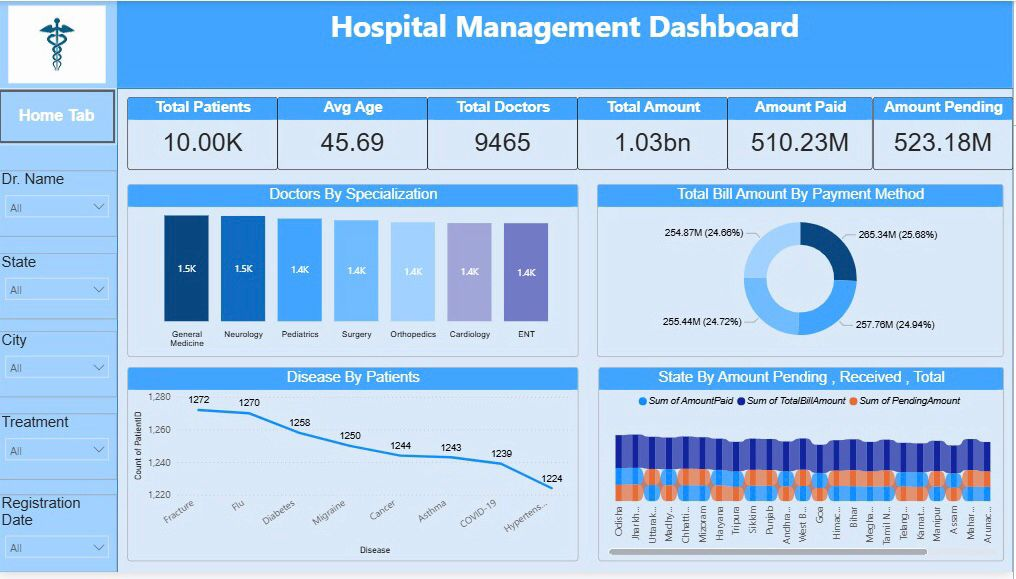

Layout of this report page (visuals, bound fields, positions):
{"tool":"powerbi","page":{"name":"Hospital Management Dashboard","canvas":[1280,720],"ordinal":1},"visuals":[{"type":"shape","box":[151.1,109.8,1129.3,610.8],"z":0},{"type":"card","title":"Total Patients","fields":{"Values":["Count(Hospital_Management_10k_Records.PatientID)"]},"box":[163.8,120.9,189.3,92.3],"z":1000},{"type":"card","title":"Avg Age","fields":{"Values":["Avg(Hospital_Management_10k_Records.Age)"]},"box":[353.1,120.9,189.3,92.3],"z":2000},{"type":"card","title":"Total Doctors","fields":{"Values":["Count(Hospital_Management_10k_Records.DoctorName)"]},"box":[542.4,120.9,189.3,92.3],"z":3000},{"type":"card","title":"Amount Pending","fields":{"Values":["Sum(Hospital_Management_10k_Records.PendingAmount)"]},"box":[1103.9,120.9,176.6,92.3],"z":4000},{"type":"card","title":"Total Amount","fields":{"Values":["Sum(Hospital_Management_10k_Records.TotalBillAmount)"]},"box":[731.7,120.9,189.3,92.3],"z":5000},{"type":"card","title":"Amount Paid","fields":{"Values":["Sum(Hospital_Management_10k_Records.AmountPaid)"]},"box":[921,120.9,182.9,92.3],"z":6000},{"type":"columnChart","title":"Doctors By Specialization","fields":{"Category":["Hospital_Management_10k_Records.Specialization"],"Y":["Count(Hospital_Management_10k_Records.DoctorName)"],"Series":["Hospital_Management_10k_Records.Specialization"]},"box":[163.8,230.6,567.8,217.9],"z":7000},{"type":"donutChart","title":"Total Bill  Amount By Payment Method","fields":{"Category":["Hospital_Management_10k_Records.PaymentMode"],"Y":["Sum(Hospital_Management_10k_Records.TotalBillAmount)"]},"box":[755.5,230.6,512.2,217.9],"z":8000},{"type":"lineChart","title":"Disease By Patients","fields":{"Category":["Hospital_Management_10k_Records.Disease"],"Y":["Count(Hospital_Management_10k_Records.PatientID)"]},"box":[163.8,461.3,567.8,245],"z":9000},{"type":"ribbonChart","title":"State By Amount Pending , Received , Total","fields":{"Category":["Hospital_Management_10k_Records.State"],"Y":["Sum(Hospital_Management_10k_Records.AmountPaid)","Sum(Hospital_Management_10k_Records.TotalBillAmount)","Sum(Hospital_Management_10k_Records.PendingAmount)"]},"box":[758.7,461.3,510.6,245],"z":10000},{"type":"slicer","title":"Dr. Name","fields":{"Values":["Hospital_Management_10k_Records.DoctorName"]},"box":[0,213.5,151.2,83.2],"z":11000},{"type":"slicer","title":"State","fields":{"Values":["Hospital_Management_10k_Records.State"]},"box":[0,317.5,151.2,83.2],"z":12000},{"type":"slicer","title":"City","fields":{"Values":["Hospital_Management_10k_Records.City"]},"box":[0,415.8,151.2,83.2],"z":13000},{"type":"slicer","title":"Treatment","fields":{"Values":["Hospital_Management_10k_Records.TreatmentGiven","Hospital_Management_10k_Records.City"]},"box":[0,519.7,151.2,83.2],"z":14000},{"type":"slicer","title":"Registration Date","fields":{"Values":["Hospital_Management_10k_Records.RegistrationDate"]},"box":[0,621.7,151.2,98.3],"z":15000},{"type":"textbox","box":[151.2,0,1128.2,109.6],"z":16000},{"type":"actionButton","box":[0,109.6,151.2,71.8],"z":17000},{"type":"image","box":[7.6,5.7,136.1,98.3],"z":18000}]}

Visuals, with their boxes in screenshot pixels (x1, y1, x2, y2), scaled from the page's 1280x720 canvas onto the 1016x579 screenshot:
shape: bbox=[120, 88, 1015, 578]
"Total Patients" card: bbox=[130, 97, 280, 171]
"Avg Age" card: bbox=[280, 97, 431, 171]
"Total Doctors" card: bbox=[431, 97, 581, 171]
"Amount Pending" card: bbox=[876, 97, 1015, 171]
"Total Amount" card: bbox=[581, 97, 731, 171]
"Amount Paid" card: bbox=[731, 97, 876, 171]
"Doctors By Specialization" columnChart: bbox=[130, 185, 581, 361]
"Total Bill  Amount By Payment Method" donutChart: bbox=[600, 185, 1006, 361]
"Disease By Patients" lineChart: bbox=[130, 371, 581, 568]
"State By Amount Pending , Received , Total" ribbonChart: bbox=[602, 371, 1008, 568]
"Dr. Name" slicer: bbox=[0, 172, 120, 239]
"State" slicer: bbox=[0, 255, 120, 322]
"City" slicer: bbox=[0, 334, 120, 401]
"Treatment" slicer: bbox=[0, 418, 120, 485]
"Registration Date" slicer: bbox=[0, 500, 120, 578]
textbox: bbox=[120, 0, 1015, 88]
actionButton: bbox=[0, 88, 120, 146]
image: bbox=[6, 5, 114, 84]
